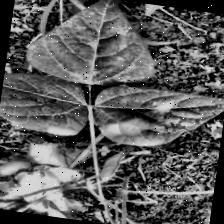ALS: (21, 0, 164, 93), (83, 80, 224, 154), (0, 73, 96, 140)
